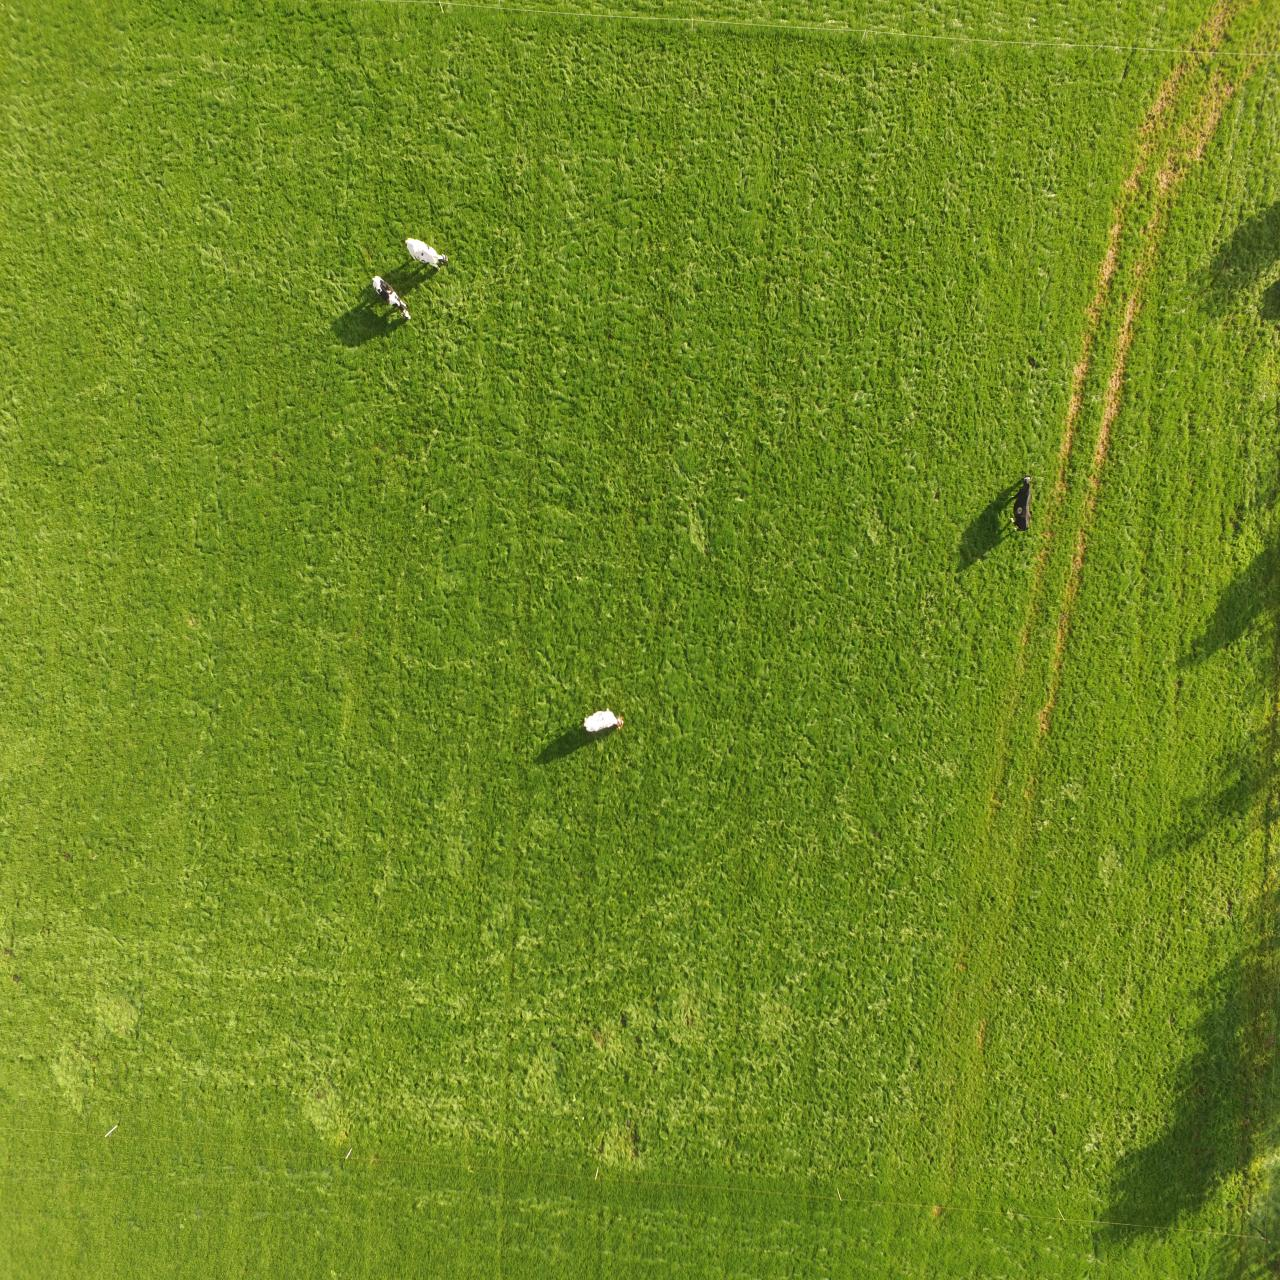cow: (370, 272, 413, 322), (1006, 471, 1036, 537), (403, 233, 450, 273), (581, 703, 627, 736)
